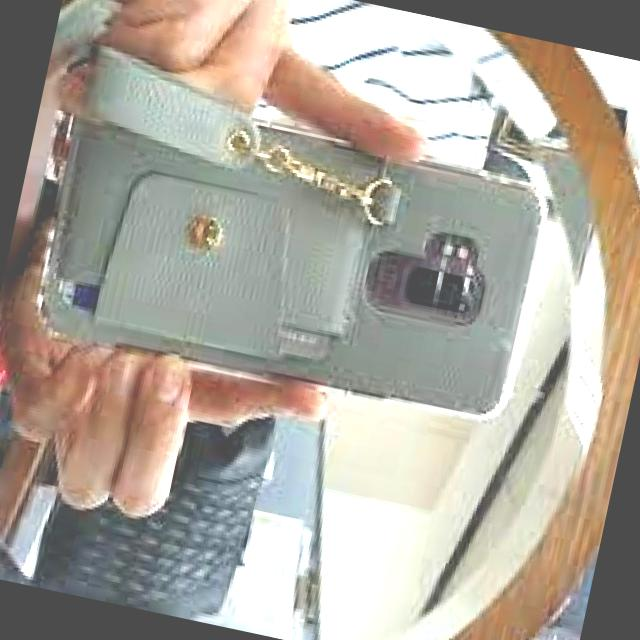lens_back: (392, 250, 479, 325)
phone: (28, 75, 564, 438)
